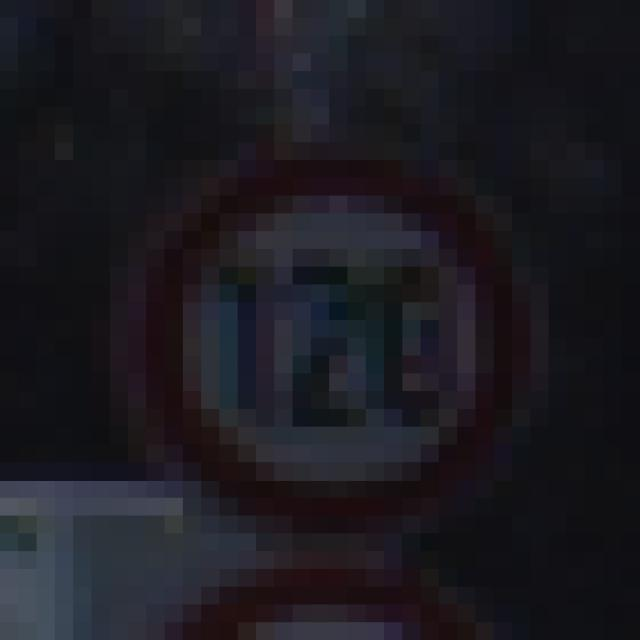Ograniczenie predkosci do 120: (126, 141, 534, 533)
